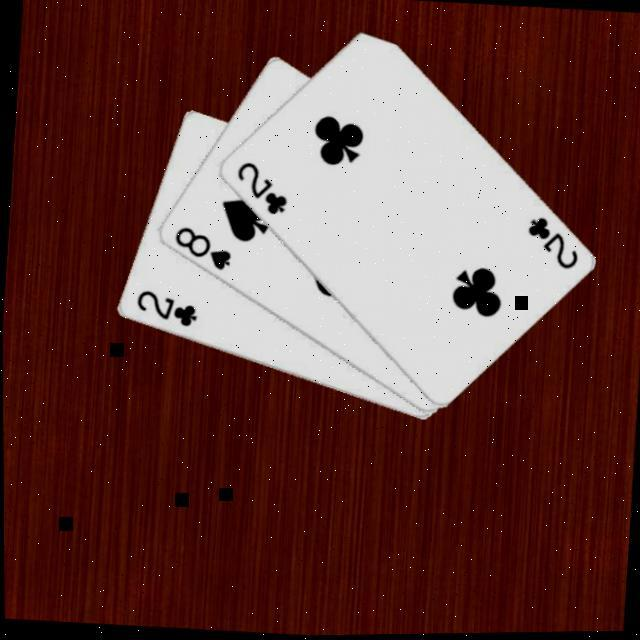2C: (231, 156, 293, 219), (521, 212, 583, 275), (131, 285, 202, 331)
8S: (168, 221, 235, 274)
